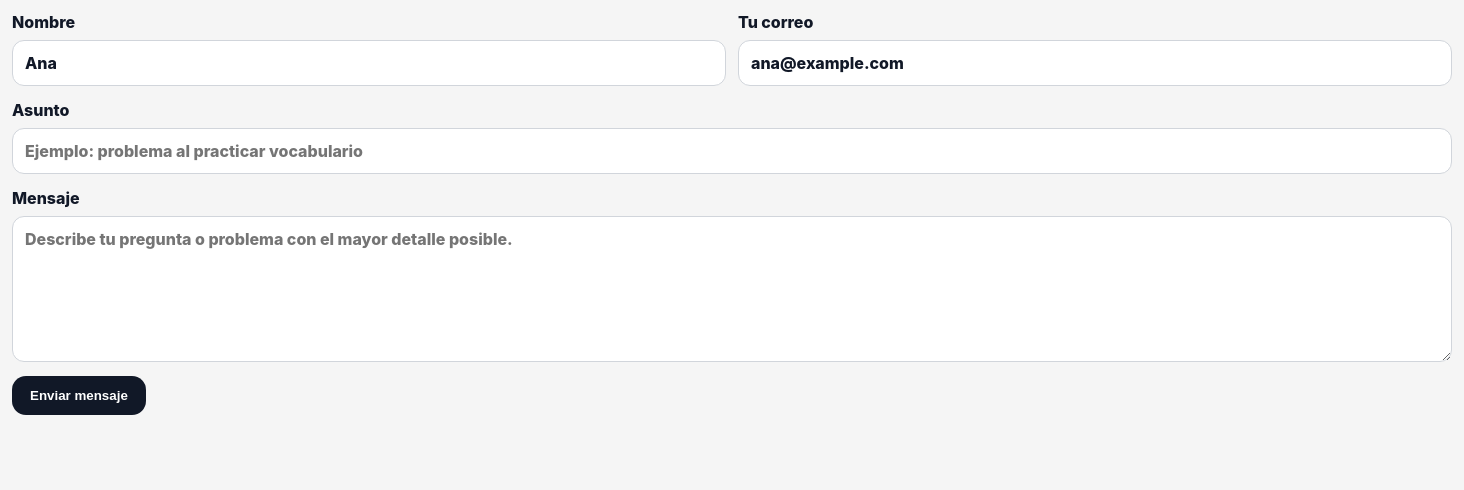
Scenario: contact form sends and clears a valid message
This screenshot has width=1464, height=490.
Expected: the field labelled "Nombre" holds "Ana", [12,40,726,86]
Type "Ayuda" into the field labelled "Asunto" at point(732, 151), box [12,128,1452,174]
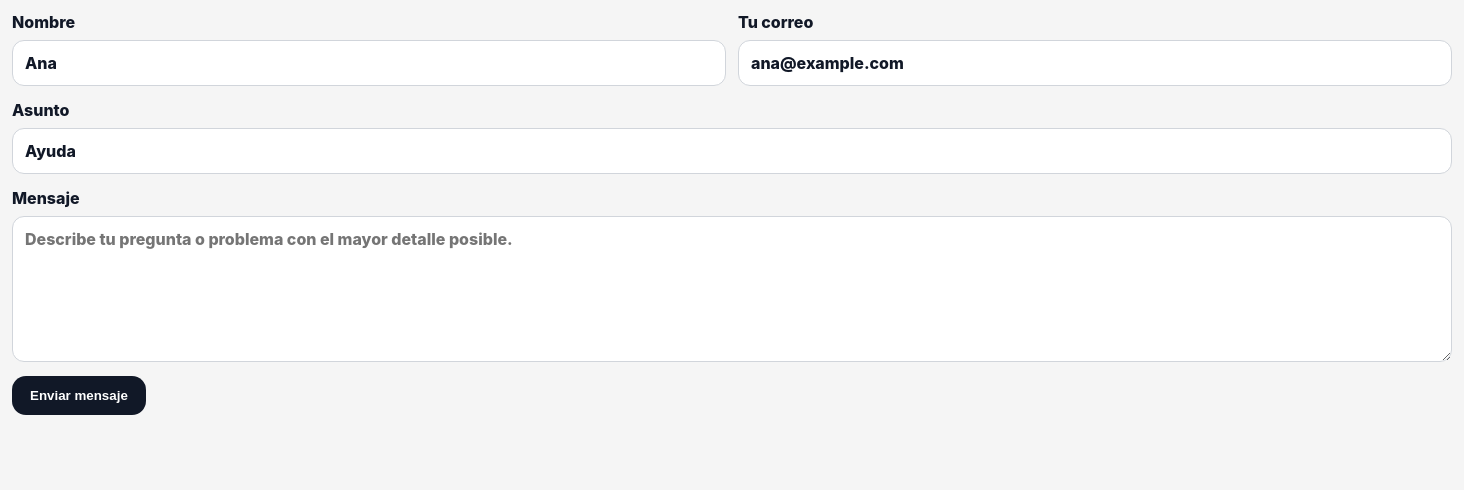
Replace the text in the text box labelled "Mensaje" with "Necesito ayuda con vocabulario" at point(732, 289), box [12,216,1452,362]
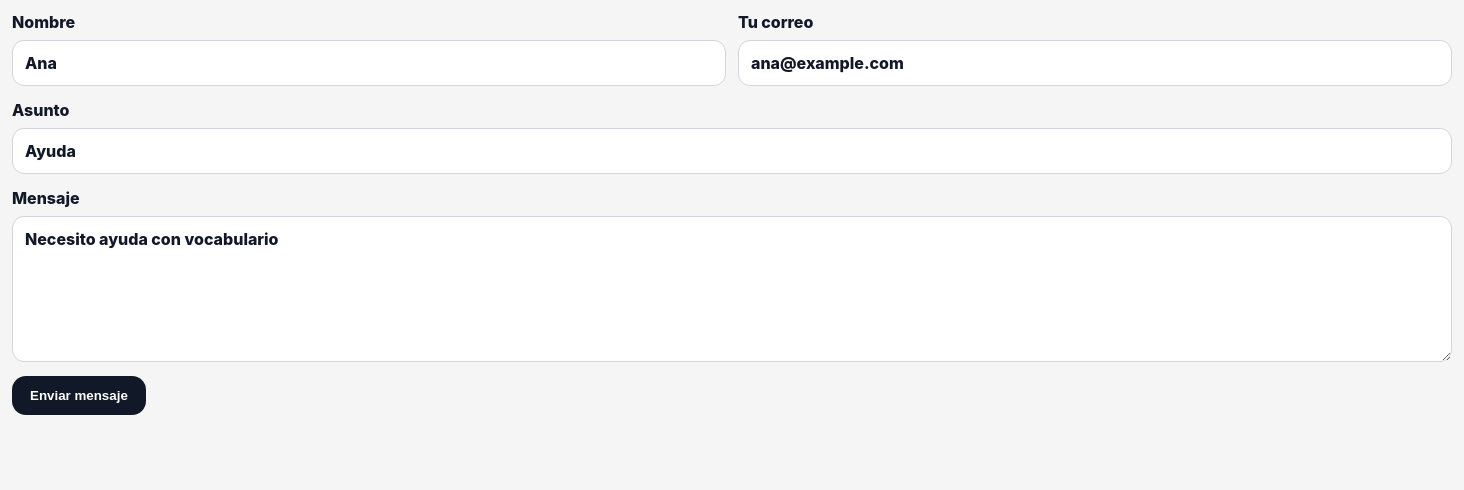
Click the button "Enviar mensaje" at point(79, 396), box [12,376,146,415]
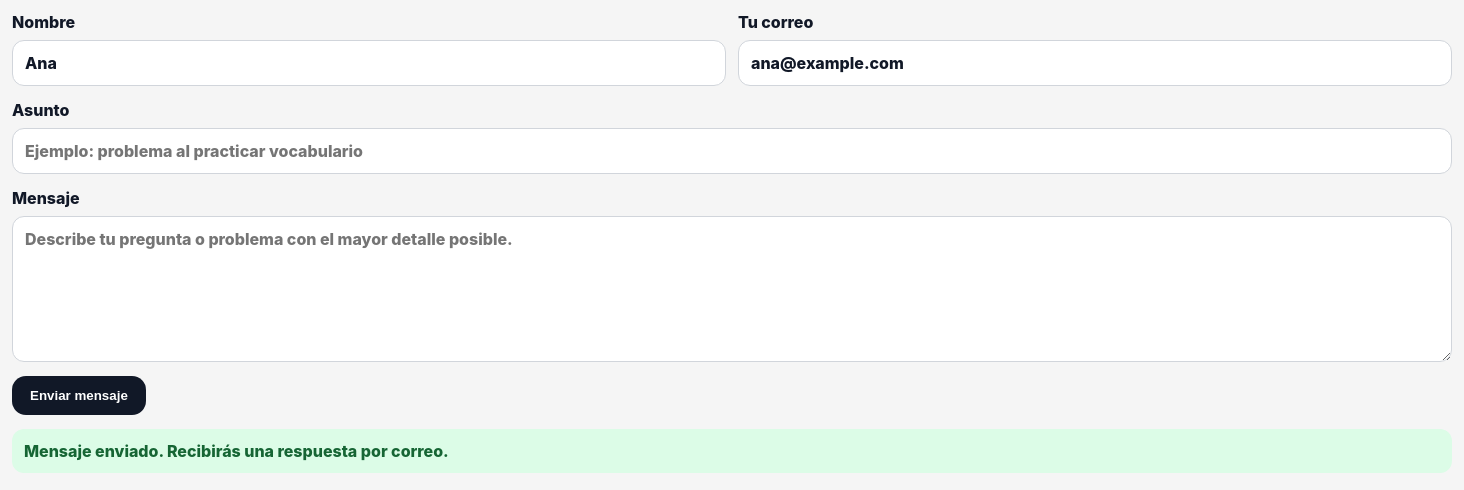
Result: the text "Mensaje enviado. Recibirás una respuesta por correo." is shown at [12,429,1452,473]
Result: the field labelled "Asunto" is empty at [12,128,1452,174]
